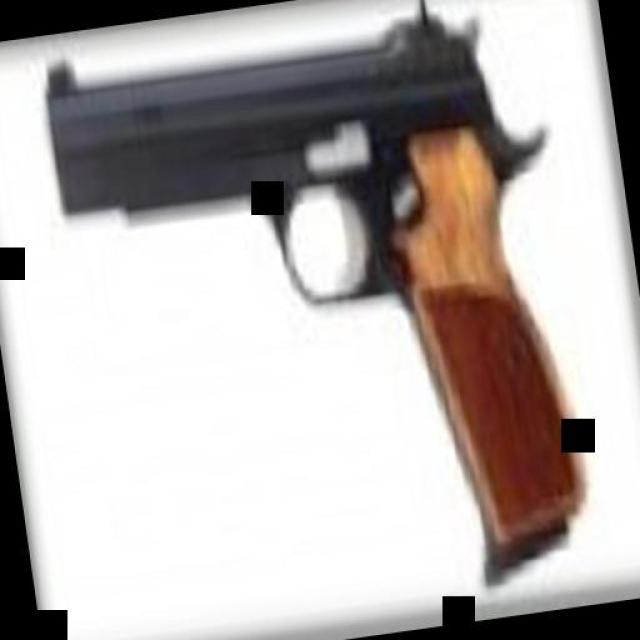gun: (26, 0, 614, 628)
